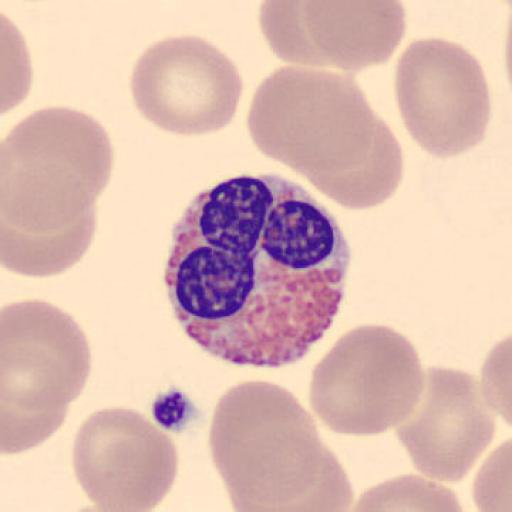Platelet: (146, 384, 204, 435)
RBC: (245, 64, 402, 211), (0, 104, 115, 254), (207, 378, 333, 512), (306, 322, 426, 437), (128, 34, 246, 140), (393, 37, 493, 159), (396, 363, 497, 483), (71, 404, 181, 511), (304, 111, 406, 211), (3, 297, 92, 403), (2, 191, 99, 279), (2, 342, 75, 455), (299, 0, 408, 72), (257, 445, 355, 512), (258, 1, 345, 67), (476, 334, 512, 484), (2, 378, 73, 454), (346, 471, 466, 512), (479, 331, 512, 446), (2, 11, 34, 117), (472, 437, 512, 512), (503, 2, 512, 104)
WBC: (163, 172, 350, 370)
